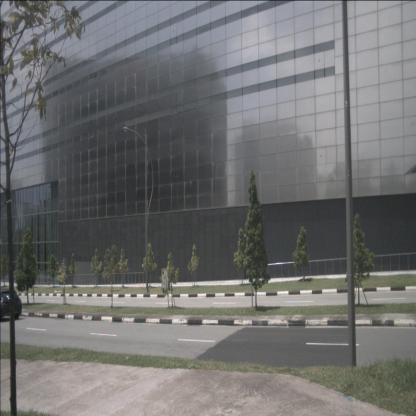vehicle-car: (0, 288, 22, 320)
